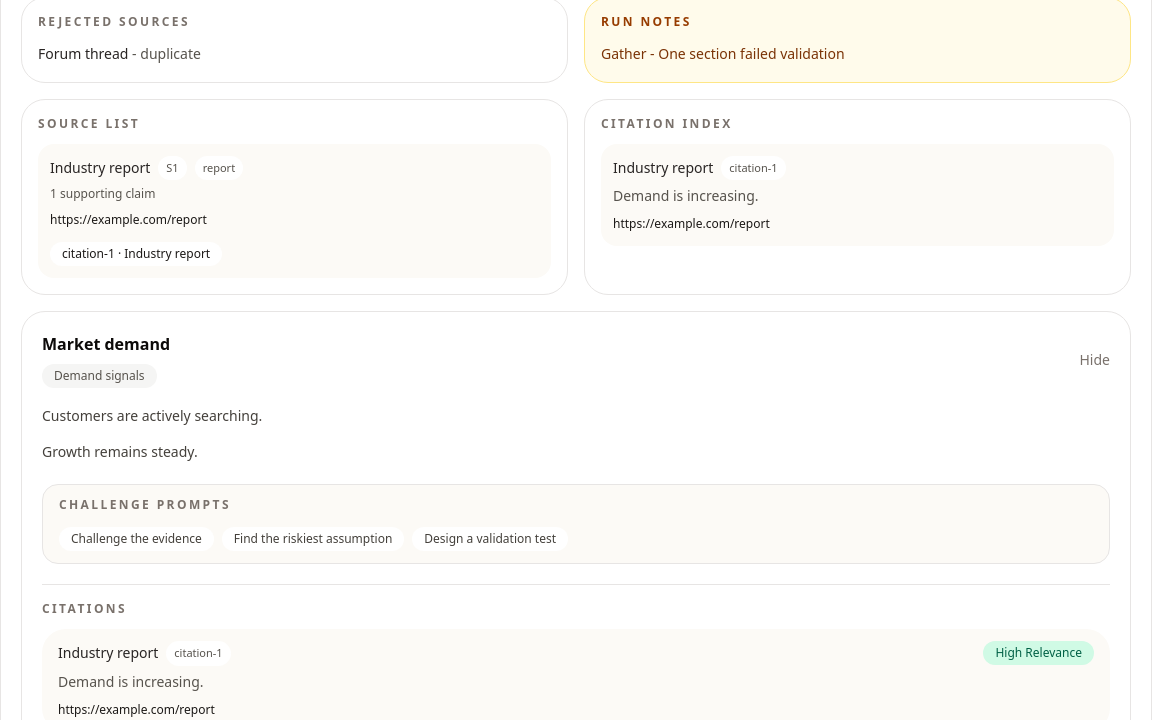
ResearchReport › renders the persisted report and toggles sections
(page scrolled)
Expected: the heading "Market demand" is shown, [42,332,170,356]
Expected: the text "Challenge the evidence" is shown, [59,527,214,551]
What coordinates should you click on to do the following:
click the button "Market demand Demand signals Hide"
I would click on:
 (106, 344)
Its box is [42,332,1110,388].
(page scrolled)
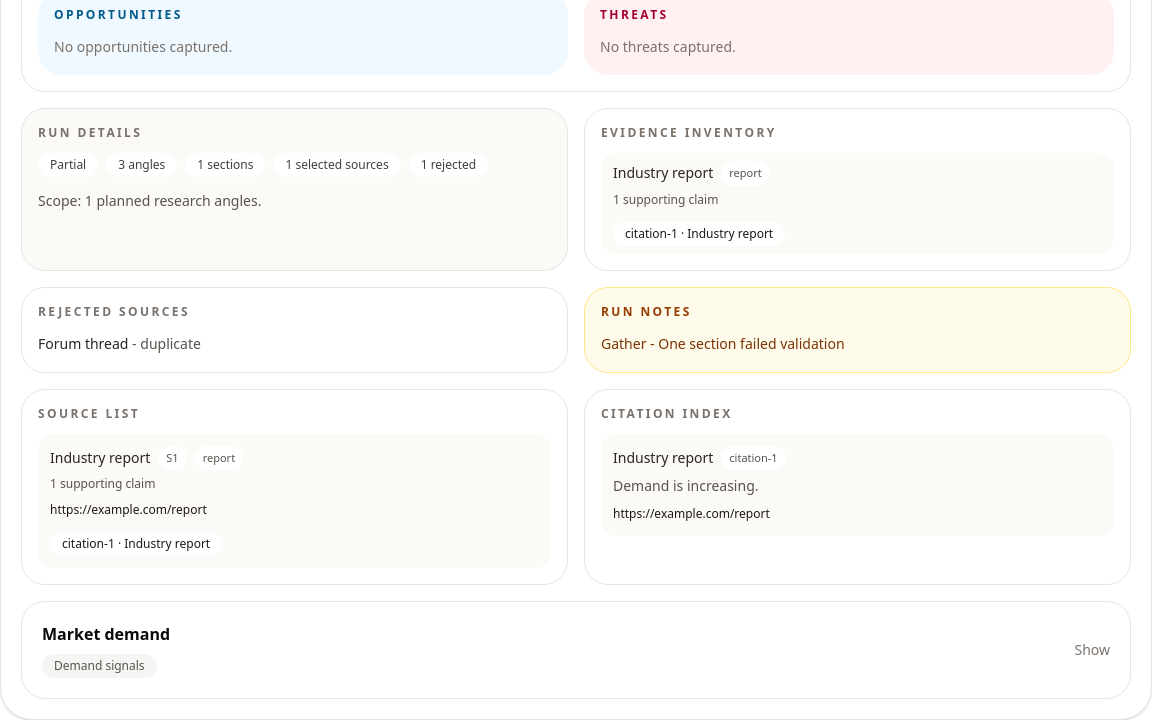
Expected: the text "Customers are actively searching." is gone
Expected: the text "Show" is shown, [1074,640,1110,660]
